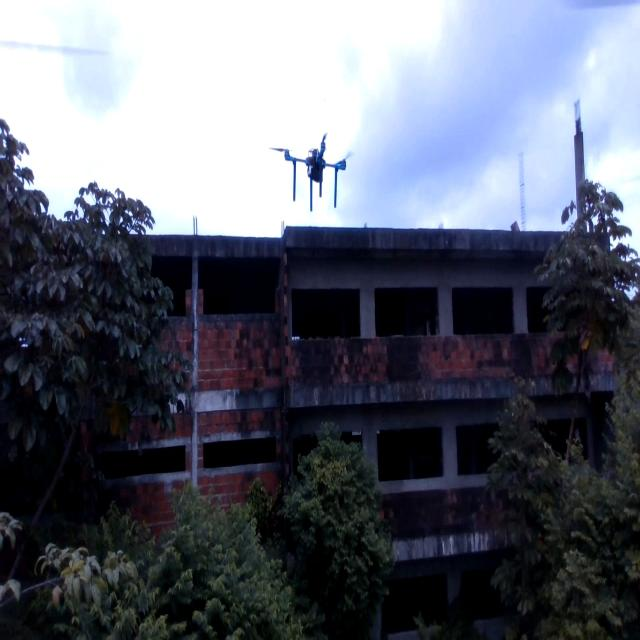-uav-: (268, 123, 357, 216)
